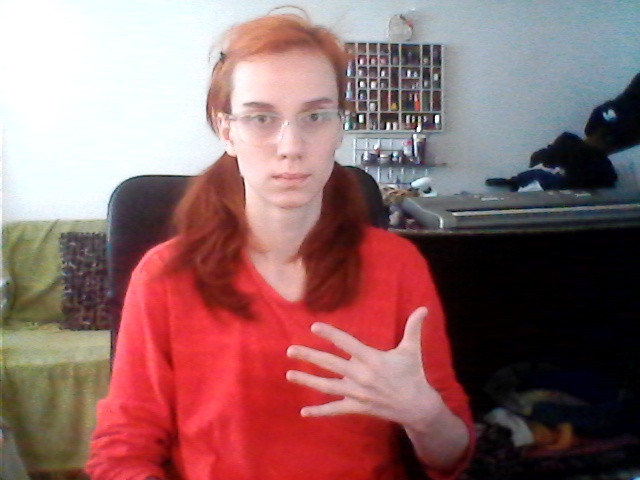pat: (283, 304, 445, 431)
